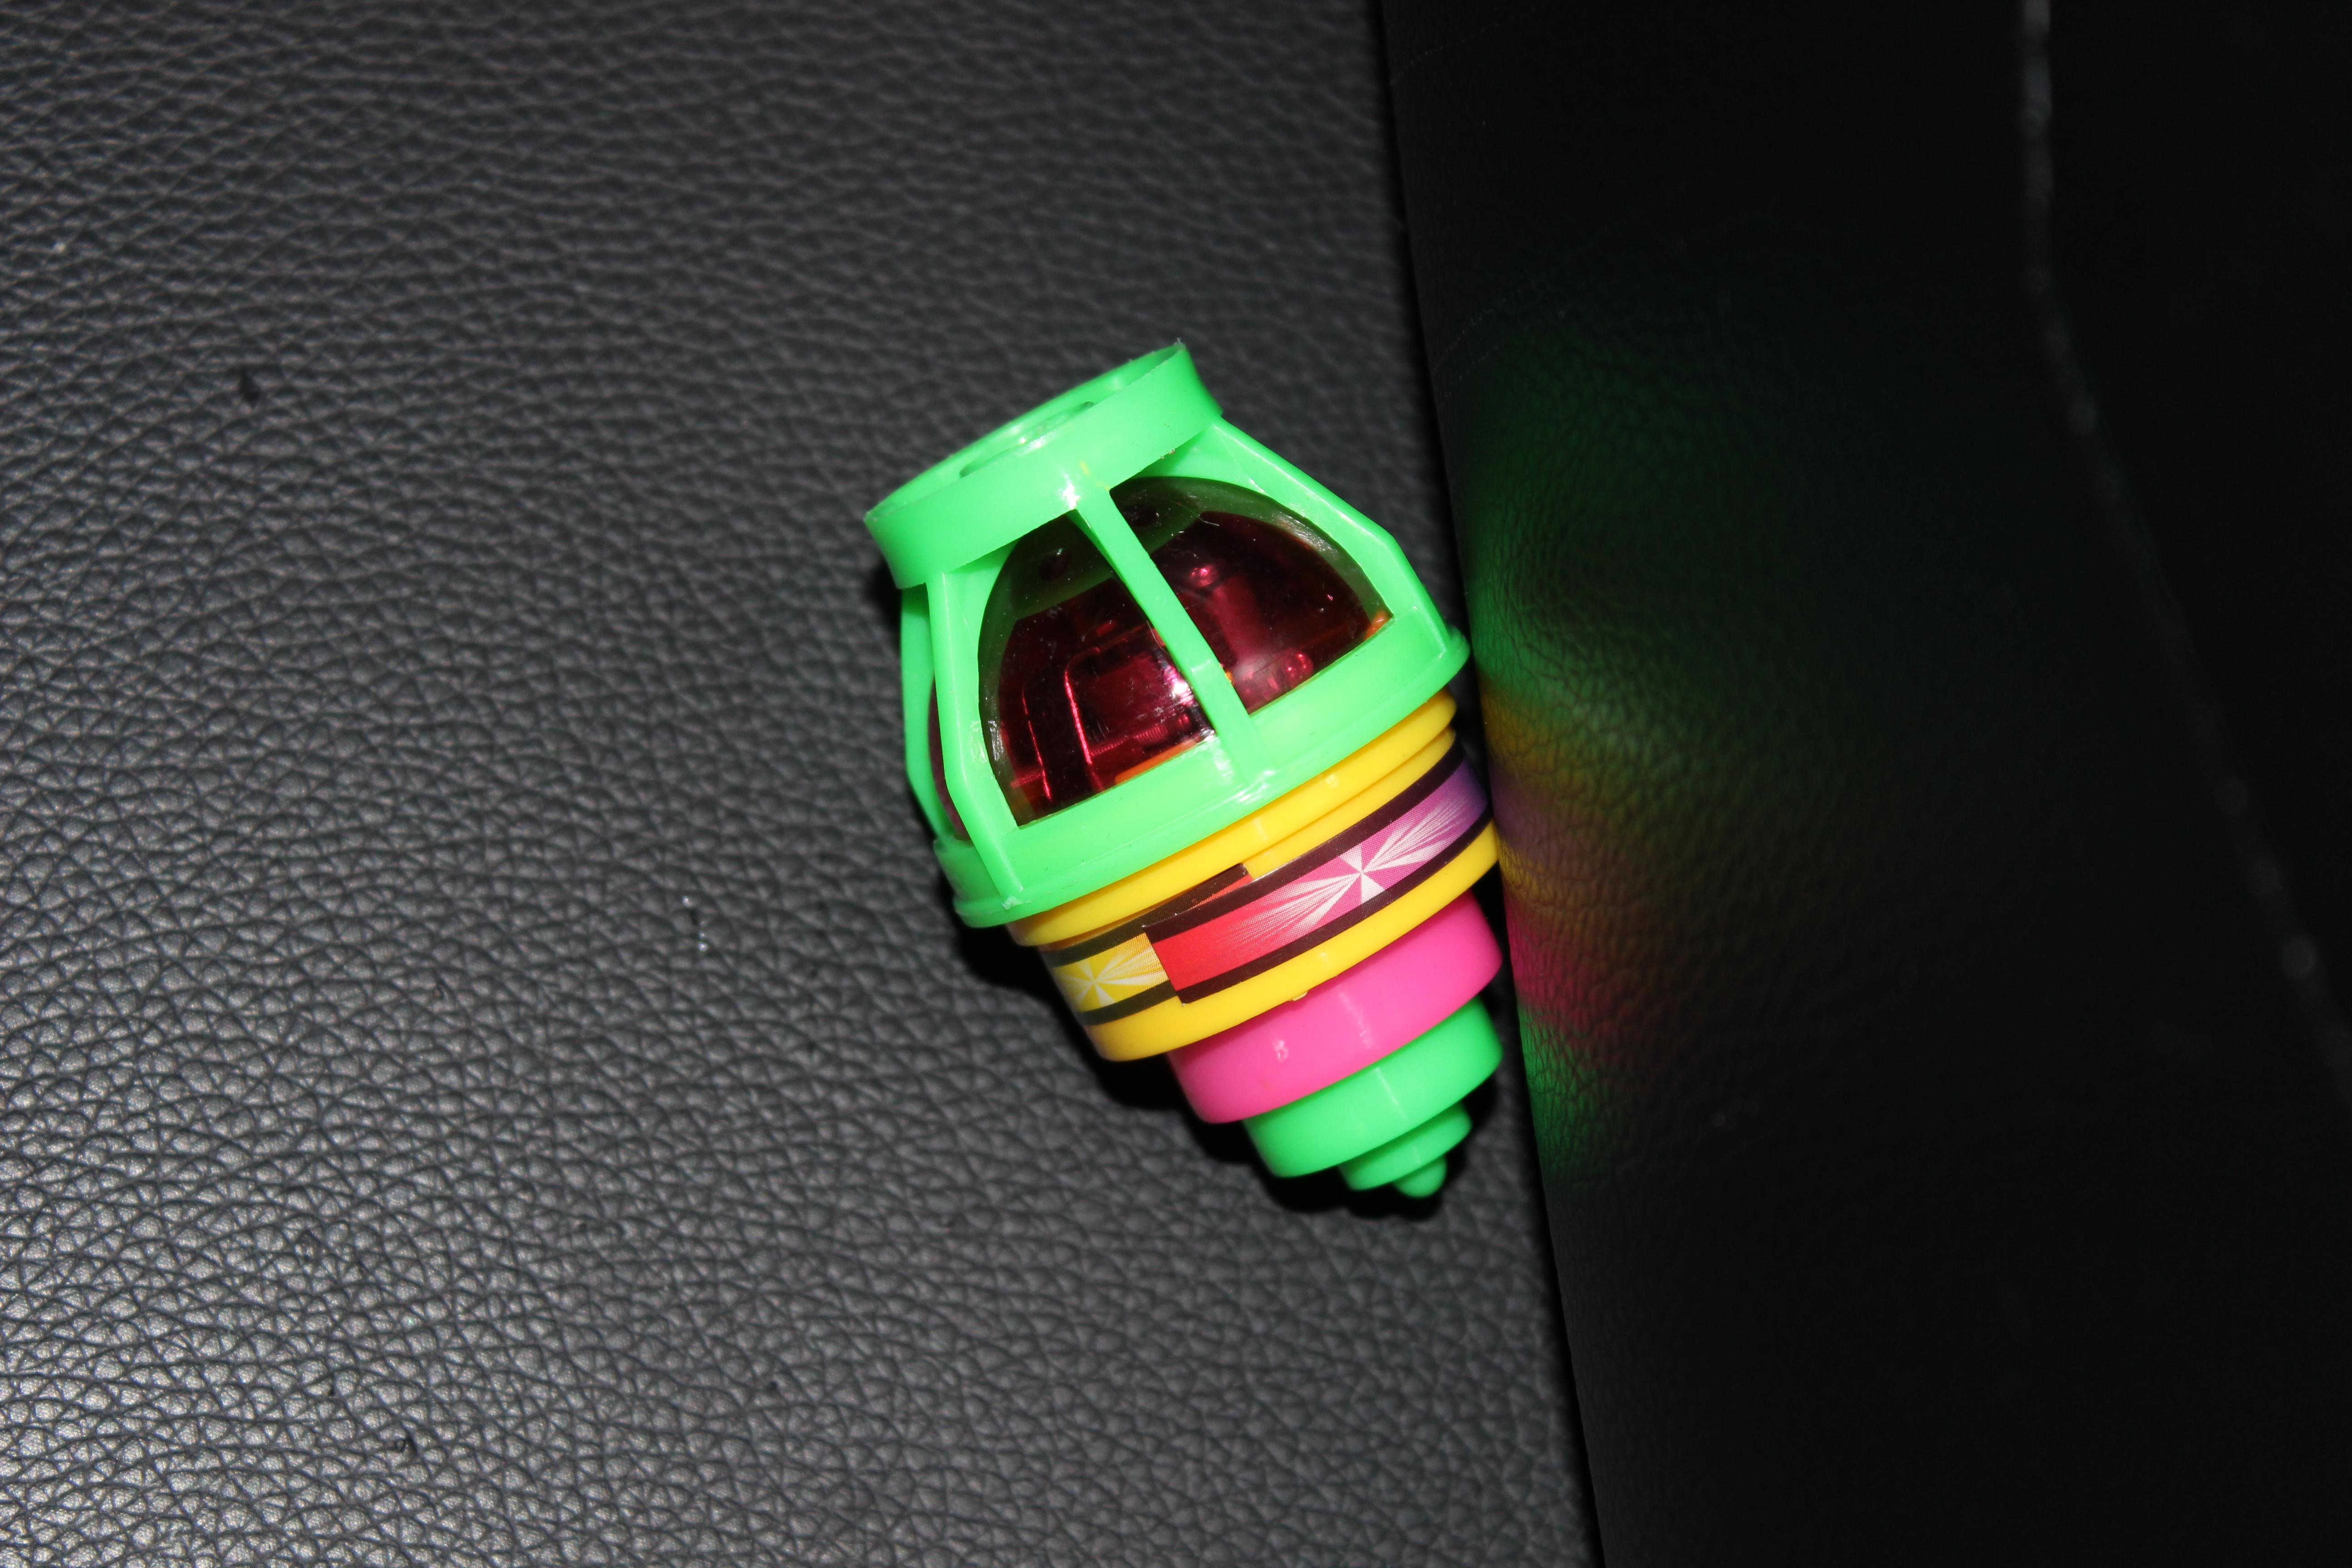gyroscope: (831, 310, 1598, 1251)
